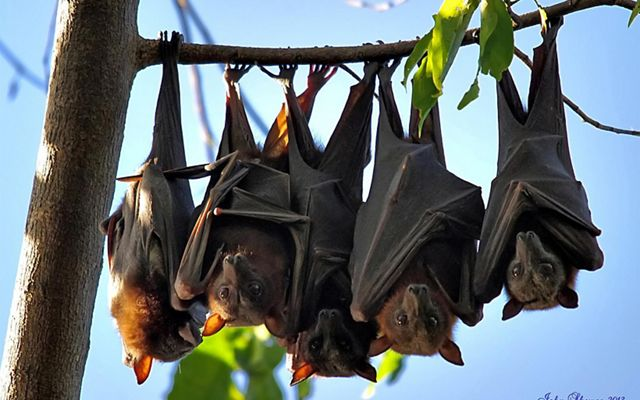bats: (482, 13, 617, 347), (365, 48, 484, 379), (284, 44, 389, 386), (104, 43, 205, 379), (210, 54, 300, 370)
